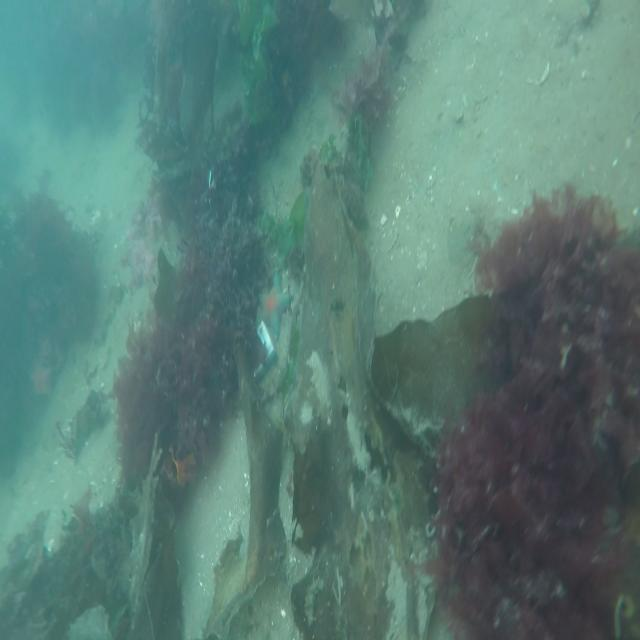starfish: (253, 270, 290, 339)
